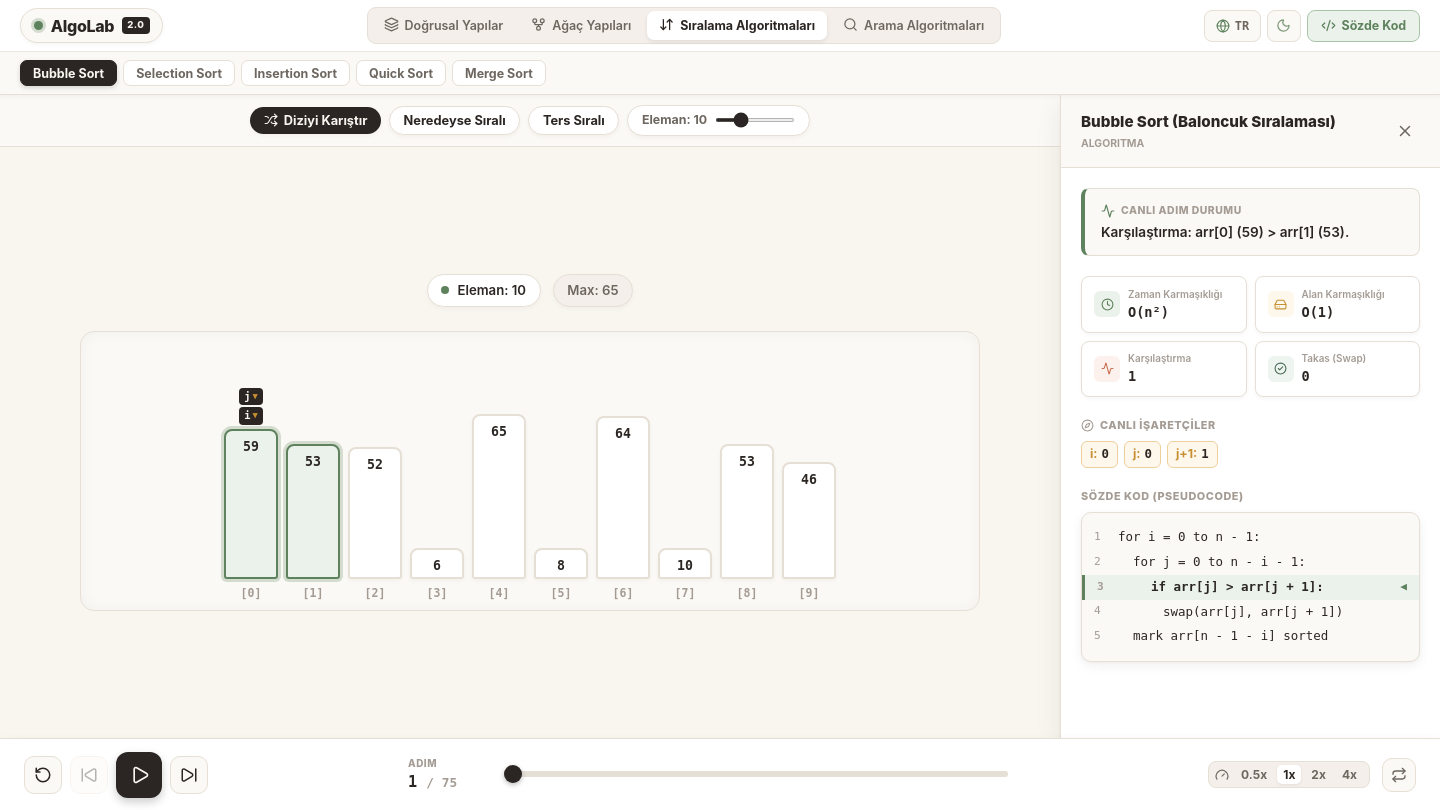
Test case: App End-to-End Component & Architectural Integration Tests › 3. "Bir Adım Geri" Kullanıcı Akışı (Step Backward Flow) › Bir adım ilerleyip ardından Geri butonuna basıldığında ilk adıma dönülmeli
Click the button titled "Bir Adım İleri".
click(189, 774)  # box [170, 756, 208, 794]
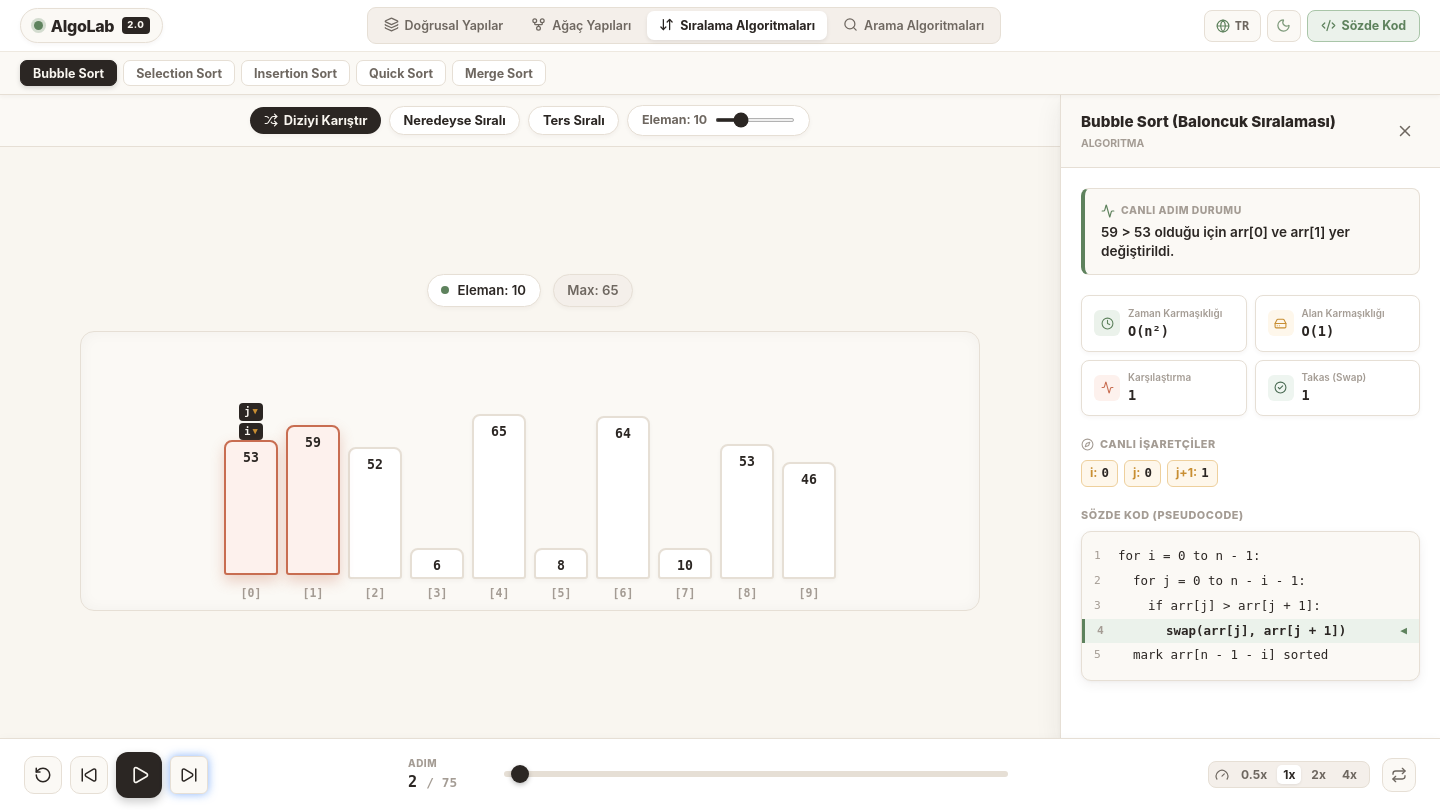
Click the button titled "Bir Adım Geri".
click(89, 774)  # box [70, 756, 108, 794]
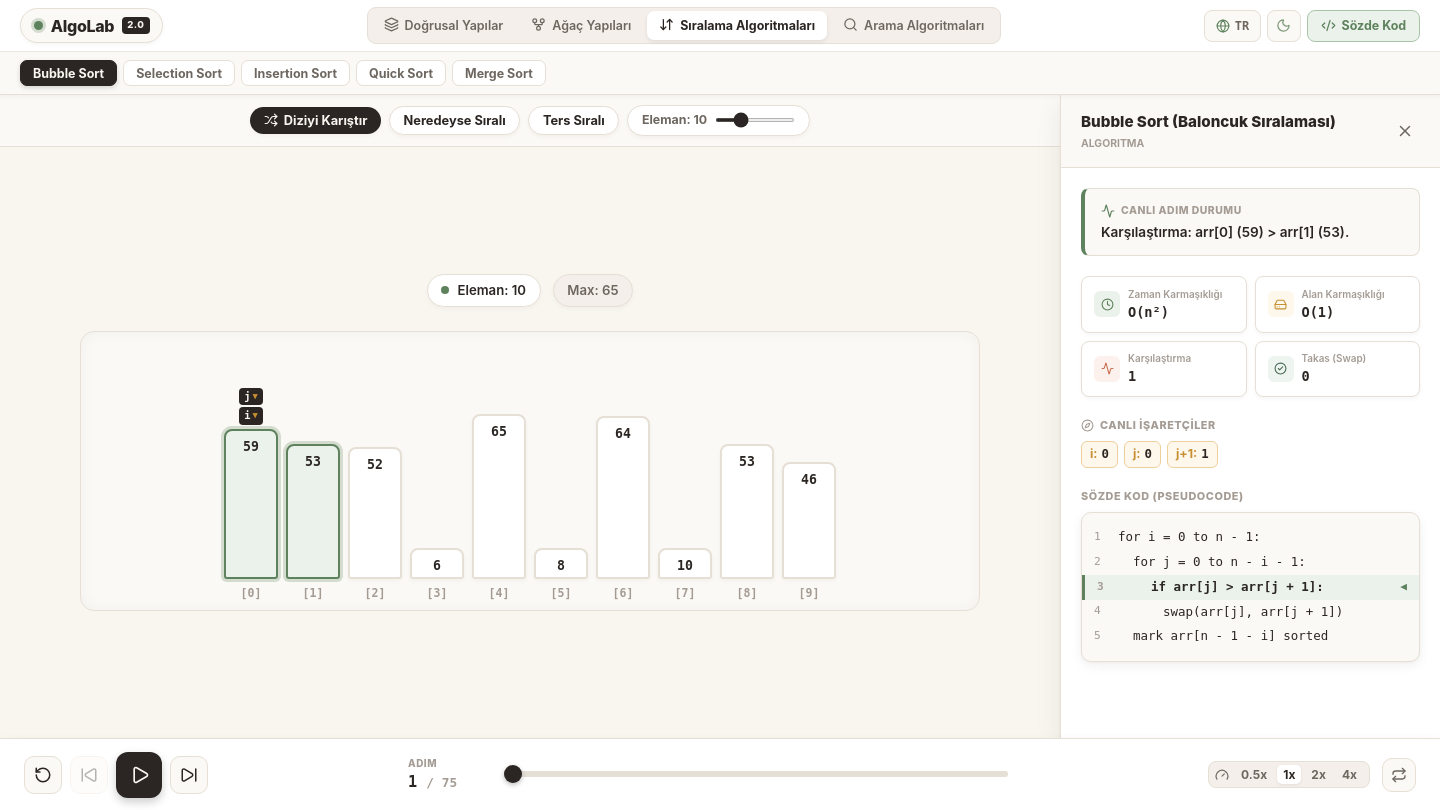
Expected: the button titled "Bir Adım Geri" is disabled, [70, 756, 108, 794]
